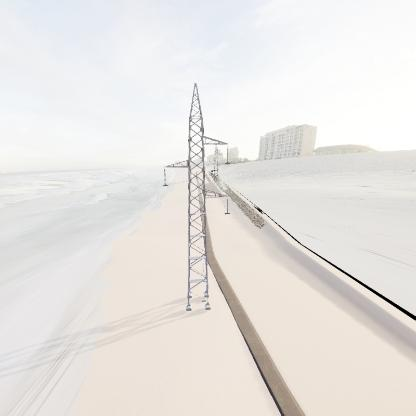tower: (158, 81, 237, 316)
